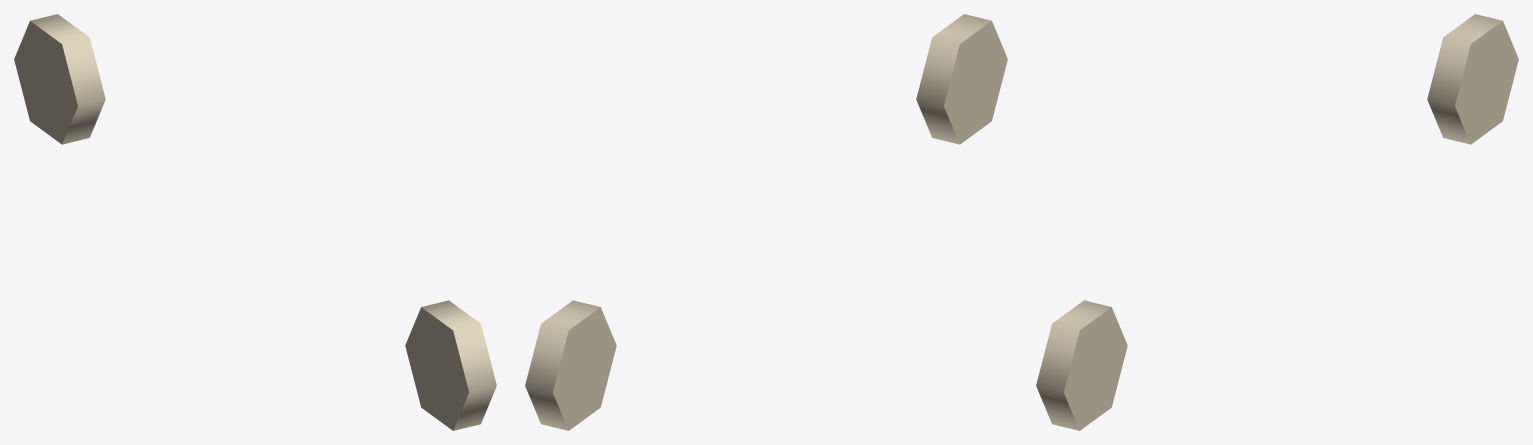
Rendered from kpfe_mount.obj.
3 views of the same model, side by side, from view 1: azimuth 30°, elevation 25°; view 2: azimuth 150°, elevation 25°; view 3: azimuth 330°, elevation 25° (orthographic).
Visible parts, largest first — view 1: kpfe_mount; view 2: kpfe_mount; view 3: kpfe_mount.
Part boxes in pixels (x1=…): kpfe_mount: x1=14, y1=14, x2=496, y2=430; kpfe_mount: x1=525, y1=14, x2=1007, y2=430; kpfe_mount: x1=1036, y1=14, x2=1518, y2=430.
Bounding box in the file's own units: 0.08 × 0.2771 × 2.28.
